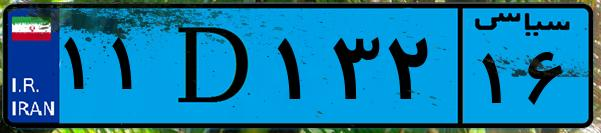1: (270, 28, 330, 110), (57, 26, 110, 100), (475, 38, 525, 113), (110, 28, 158, 98)
2: (385, 28, 445, 110)
3: (330, 28, 385, 110)
6: (525, 38, 570, 115)
D: (158, 12, 270, 120)
